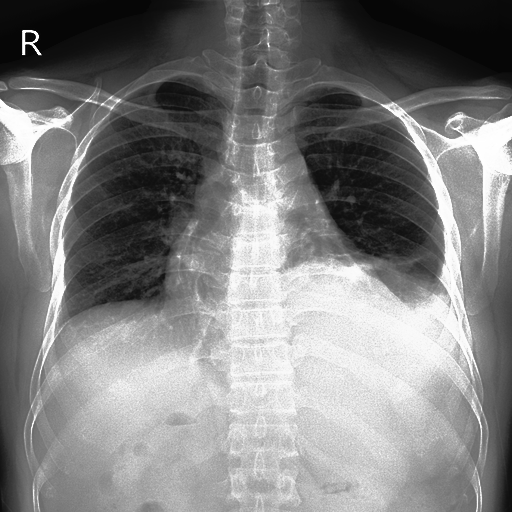Aortic enlargement: (367, 258, 440, 302)
Nodule/Mass: (162, 233, 376, 348)
Pleural effusion: (347, 223, 458, 325), (414, 253, 451, 322)
Pleural thickening: (381, 265, 437, 305)
Pneumothorax: (379, 251, 431, 273)
